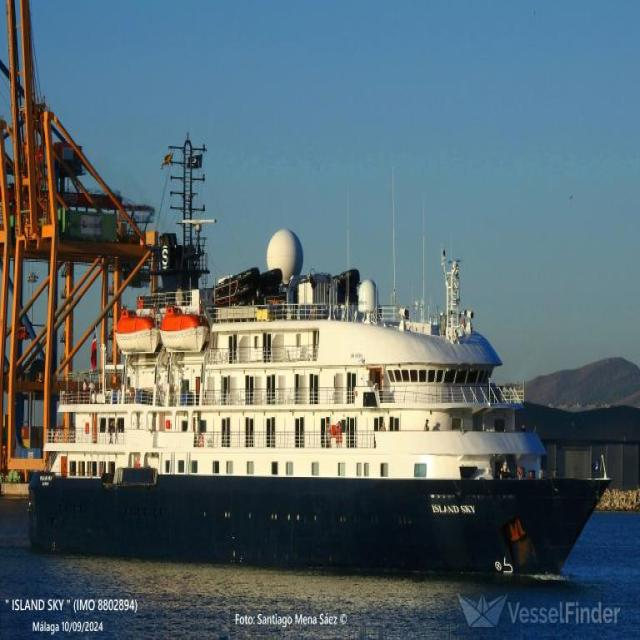PassengerShip: (24, 223, 607, 608)
